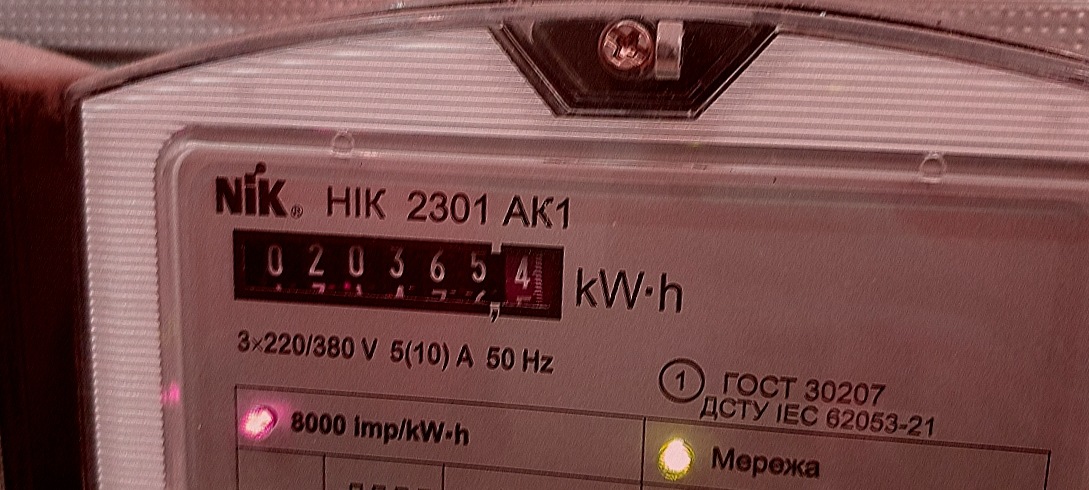0: (345, 241, 368, 279), (263, 241, 287, 277)
2: (303, 240, 328, 277)
3: (386, 242, 408, 279)
4: (512, 253, 534, 289)
5: (467, 249, 490, 283)
6: (426, 246, 449, 284)
screen: (210, 203, 587, 342)
